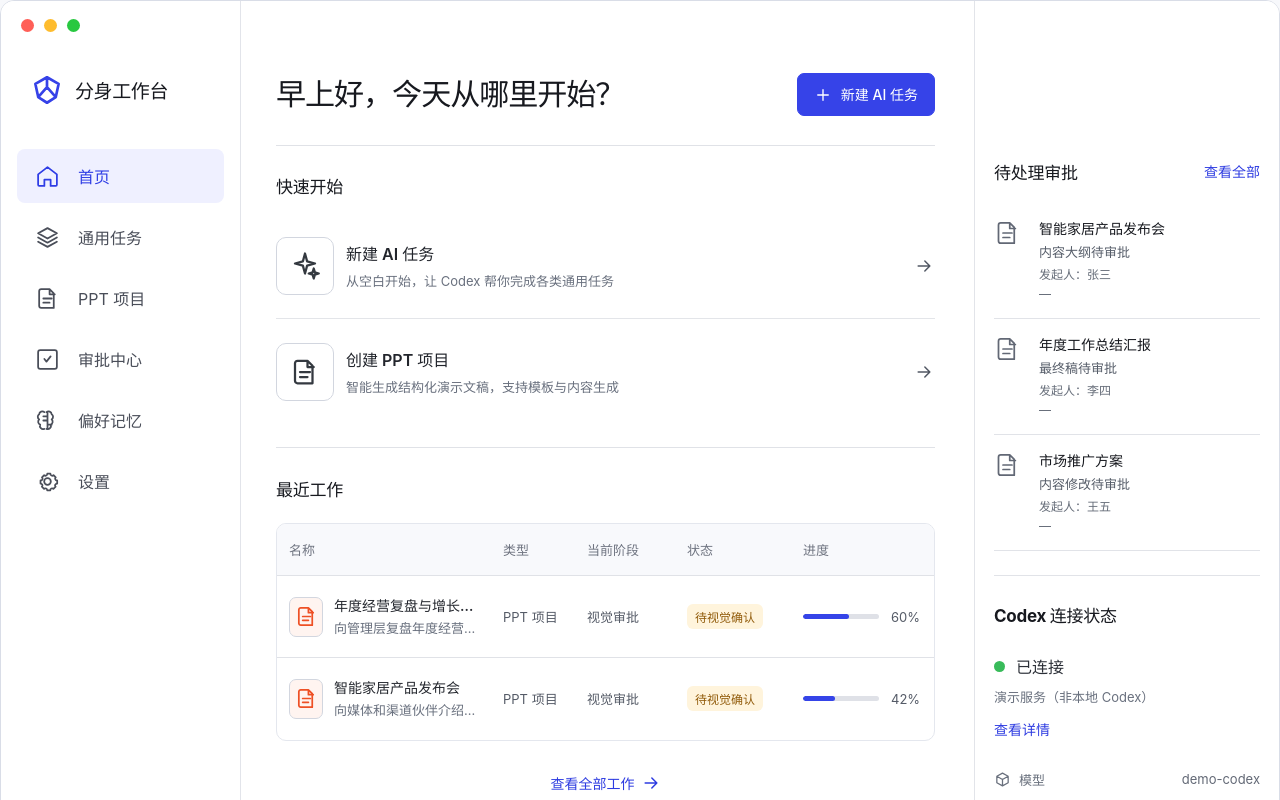
Test: desktop workbench interactions › navigates between dashboard sections with an accessible current item
Click the link "审批中心" at (88, 359), box [35,346,142,372]
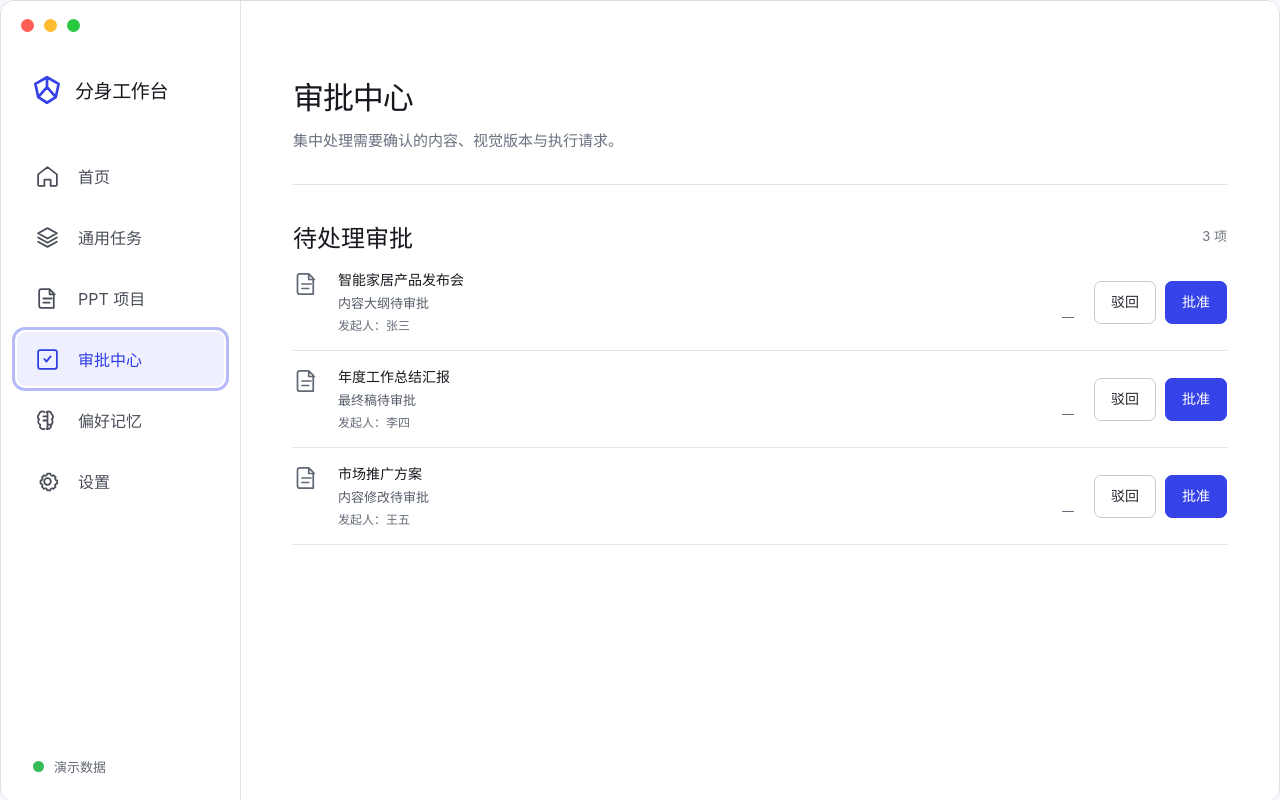
Now the heading "审批中心" is shown, box [293,79,413,116]
